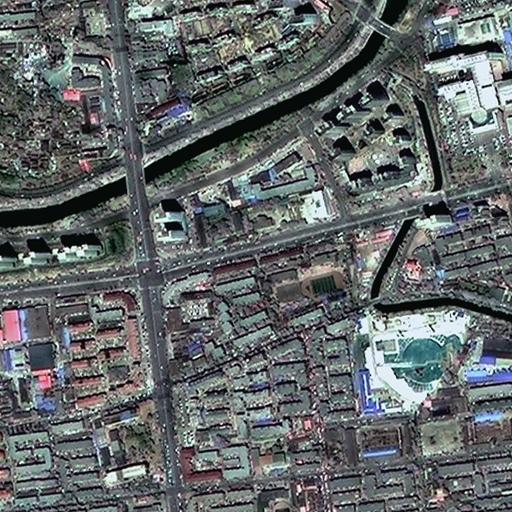school: (265, 262, 350, 310)
